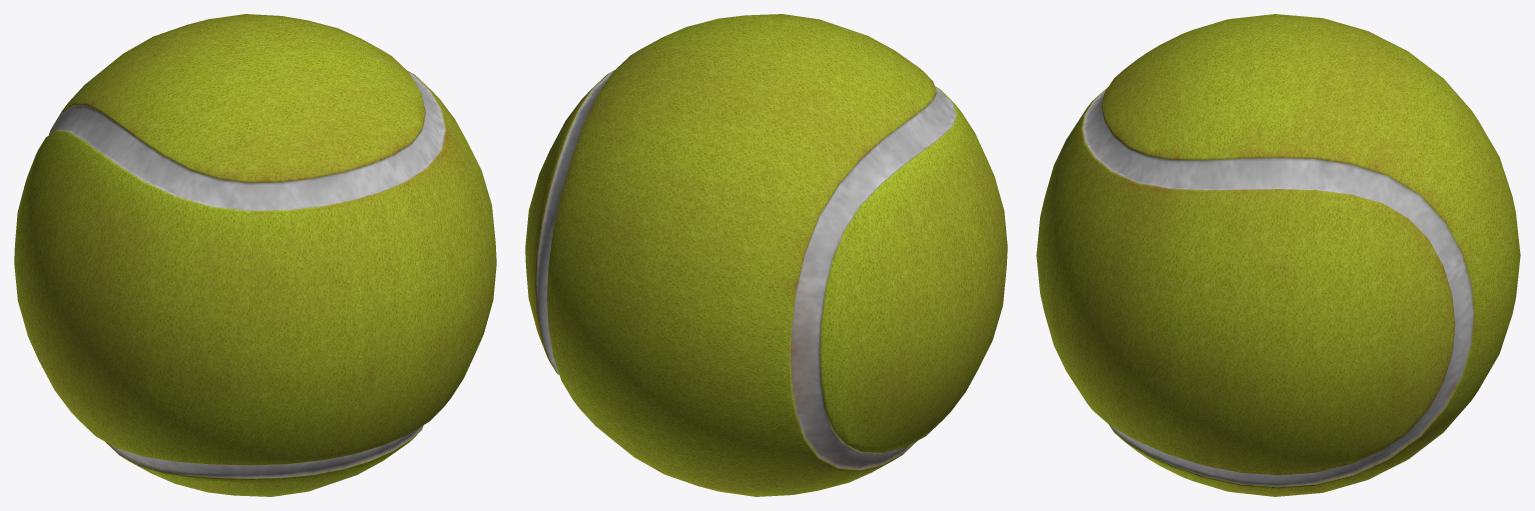
The model's file is tennis.glb.
The picture shows the model from 3 angles, left to right: view 1: azimuth 30°, elevation 25°; view 2: azimuth 150°, elevation 25°; view 3: azimuth 270°, elevation 25°; orthographic projection.
Parts seen in each view (by area): view 1: tennis_ball; view 2: tennis_ball; view 3: tennis_ball.
Boxes of the visible parts, box(x1,y1,x2,y2) form: tennis_ball: box(14, 14, 496, 496); tennis_ball: box(525, 14, 1007, 496); tennis_ball: box(1036, 14, 1520, 496).
Bounding box in the file's own units: 0.1703 × 0.1703 × 0.1703.
Materials: 1 (1 with a texture image).
